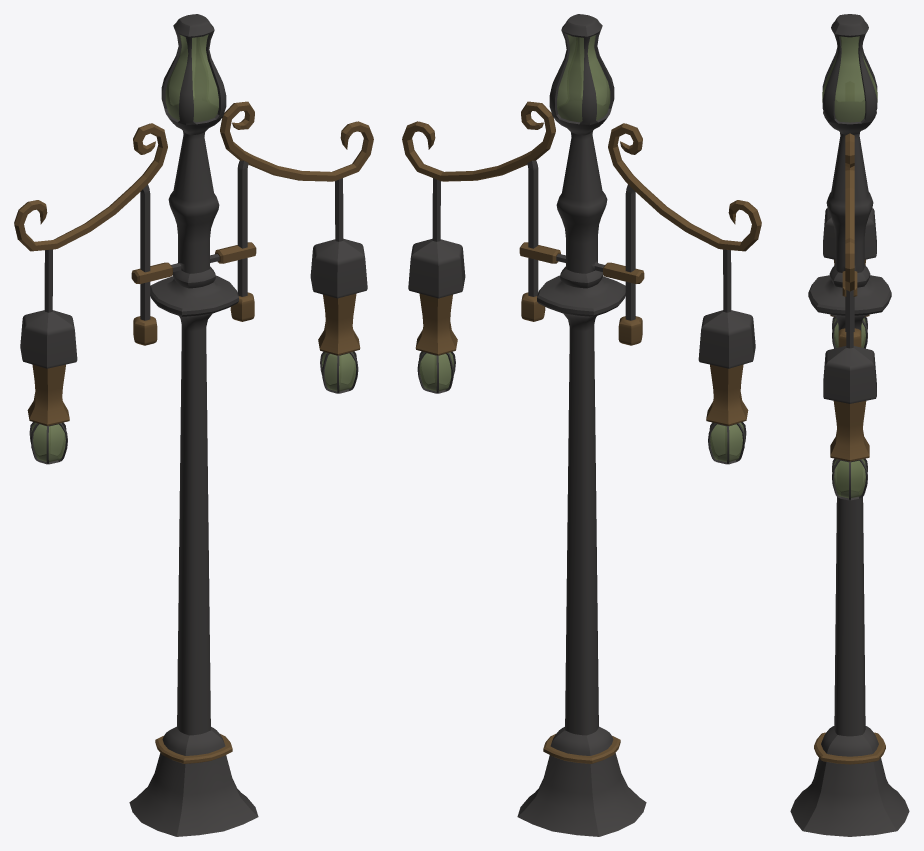
Rendered from Lamp.fbx.
3 views of the same model, side by side, from view 1: azimuth 30°, elevation 25°; view 2: azimuth 150°, elevation 25°; view 3: azimuth 270°, elevation 25° (orthographic).
Parts seen in each view (by area): view 1: LampPost:LampPost:LampPost:Lampbase, LampPost:LampPost:LampPost:LampPieces, LampPost:LampPost:LampPost:LampGlass; view 2: LampPost:LampPost:LampPost:Lampbase, LampPost:LampPost:LampPost:LampPieces, LampPost:LampPost:LampPost:LampGlass; view 3: LampPost:LampPost:LampPost:Lampbase, LampPost:LampPost:LampPost:LampPieces, LampPost:LampPost:LampPost:LampGlass.
Part boxes in pixels (bbox=[...]): LampPost:LampPost:LampPost:Lampbase: bbox=[20, 14, 367, 836]; LampPost:LampPost:LampPost:LampPieces: bbox=[14, 101, 373, 763]; LampPost:LampPost:LampPost:LampGlass: bbox=[31, 34, 356, 462]; LampPost:LampPost:LampPost:Lampbase: bbox=[408, 14, 755, 836]; LampPost:LampPost:LampPost:LampPieces: bbox=[402, 101, 761, 763]; LampPost:LampPost:LampPost:LampGlass: bbox=[419, 34, 744, 462]; LampPost:LampPost:LampPost:Lampbase: bbox=[790, 14, 909, 836]; LampPost:LampPost:LampPost:LampPieces: bbox=[814, 133, 885, 764]; LampPost:LampPost:LampPost:LampGlass: bbox=[822, 36, 877, 498].
Size of the model in its own units: 3.65 by 7.68 by 1.05.
